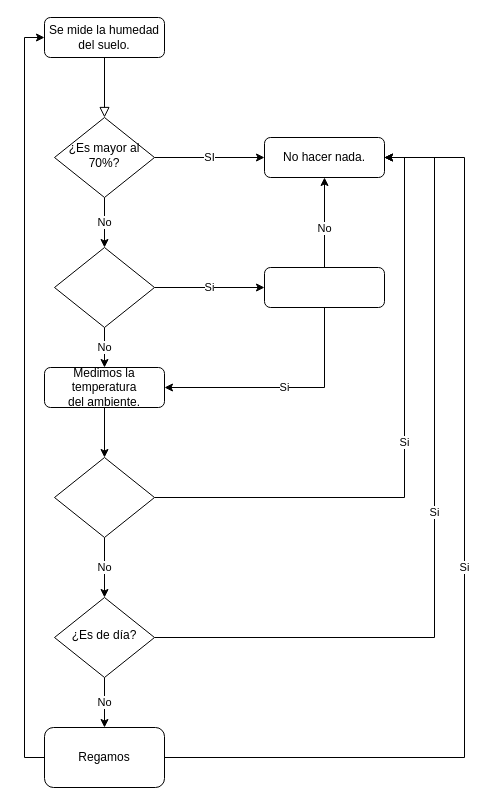
Image size: 490x805. Some labels were removed from this diagram. Here are the shapes that lost their labels. From the top down, the centre of each, then its label:
point 104,287: ¿Es mayor al 50%?
point 324,287: ¿El cultivo se encuentra en el comienzo de ciclo?
point 104,497: ¿Es menor a 4 °C?
